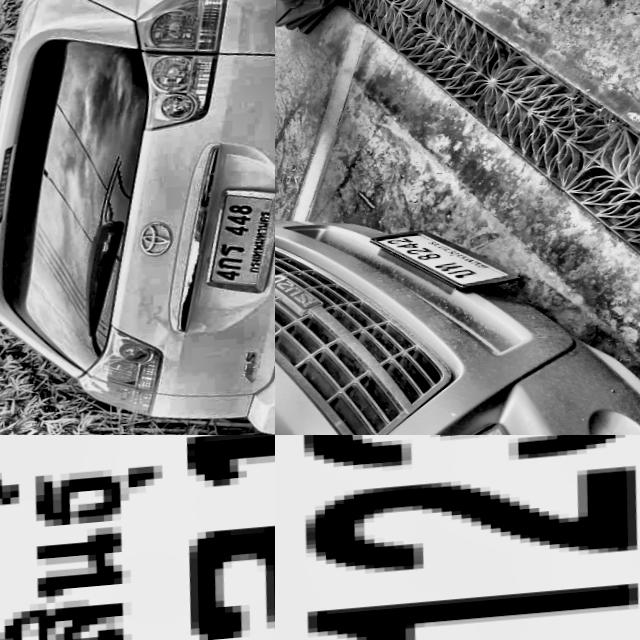license-plate: (275, 435, 640, 640), (0, 435, 275, 640), (364, 218, 529, 302), (198, 183, 275, 296)
